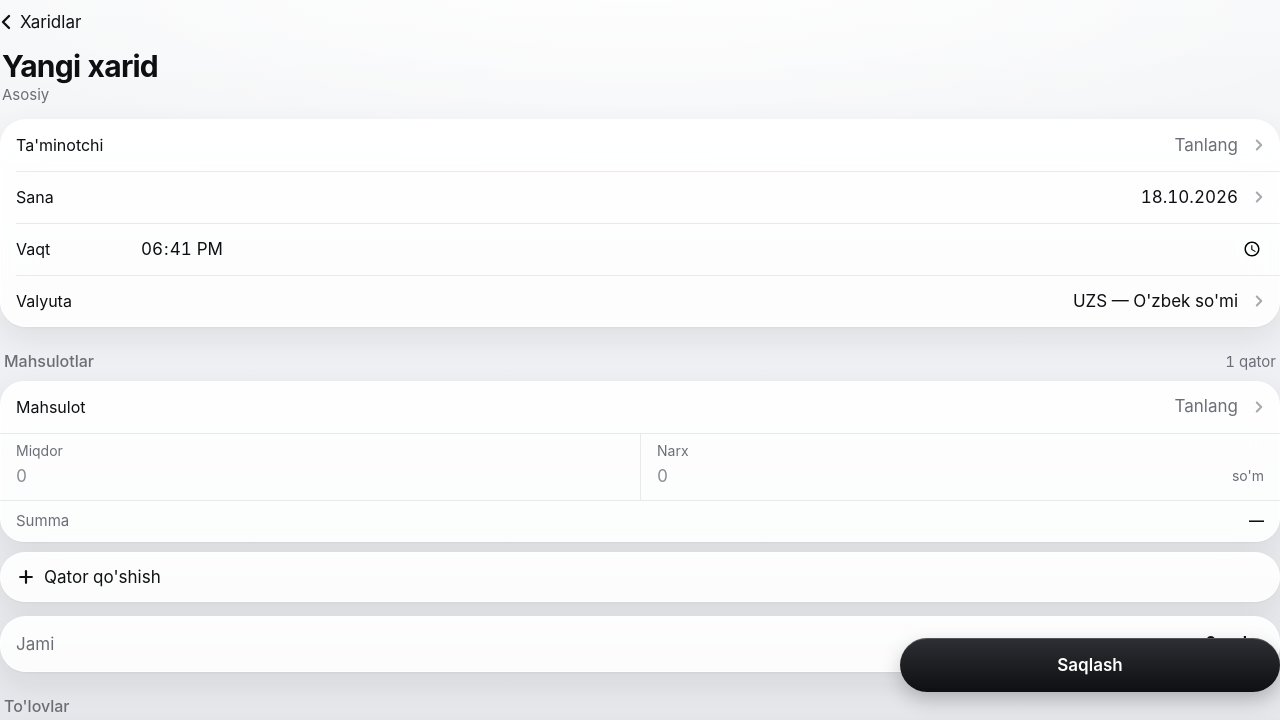
Test: with more than the so'm the currency and the rate are asked, and a last price in another currency is turned
This screenshot has width=1280, height=720.
Check: the heading "Yangi xarid" is shown, box x1=2 y1=50 x2=158 y2=83
Check: the button labelled "Valyuta UZS — O'zbek so'mi" is shown, box x1=0 y1=275 x2=1279 y2=327
Click the button "Mahsulot Tanlang" at (51, 406), box x1=0 y1=380 x2=1279 y2=432
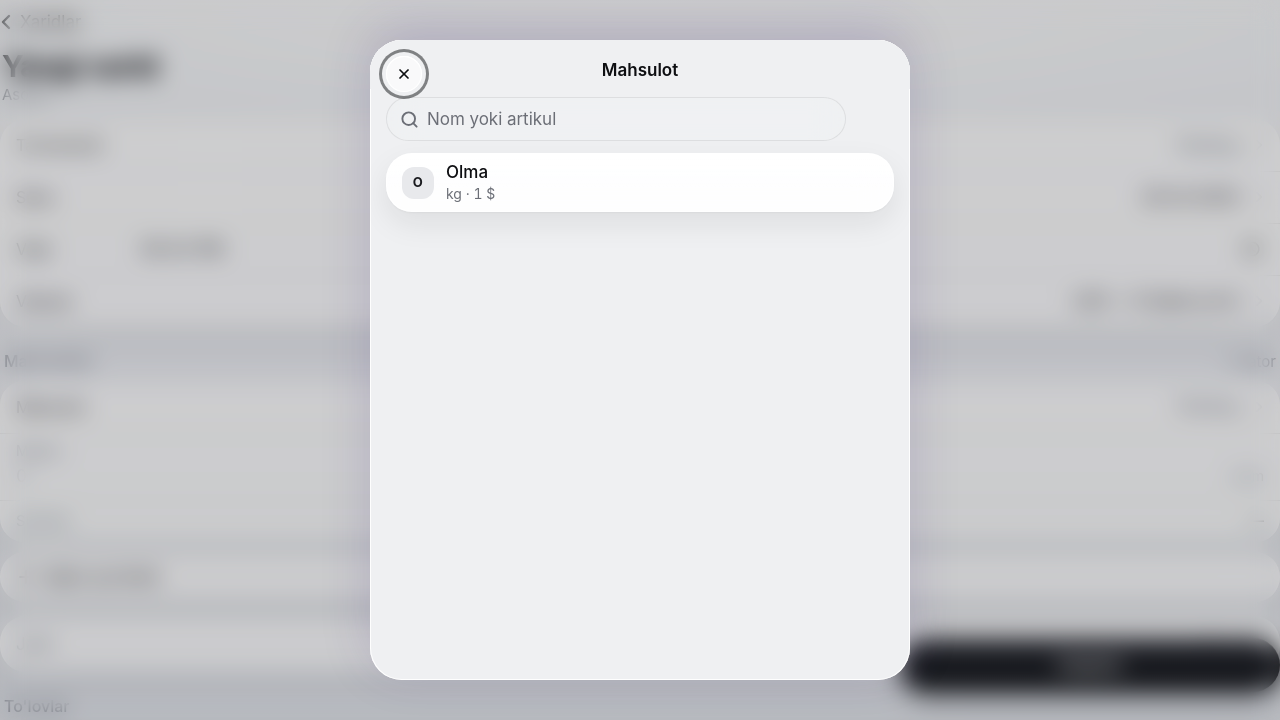
Type "ol" into the search field at (630, 119), box x1=427 y1=97 x2=832 y2=141
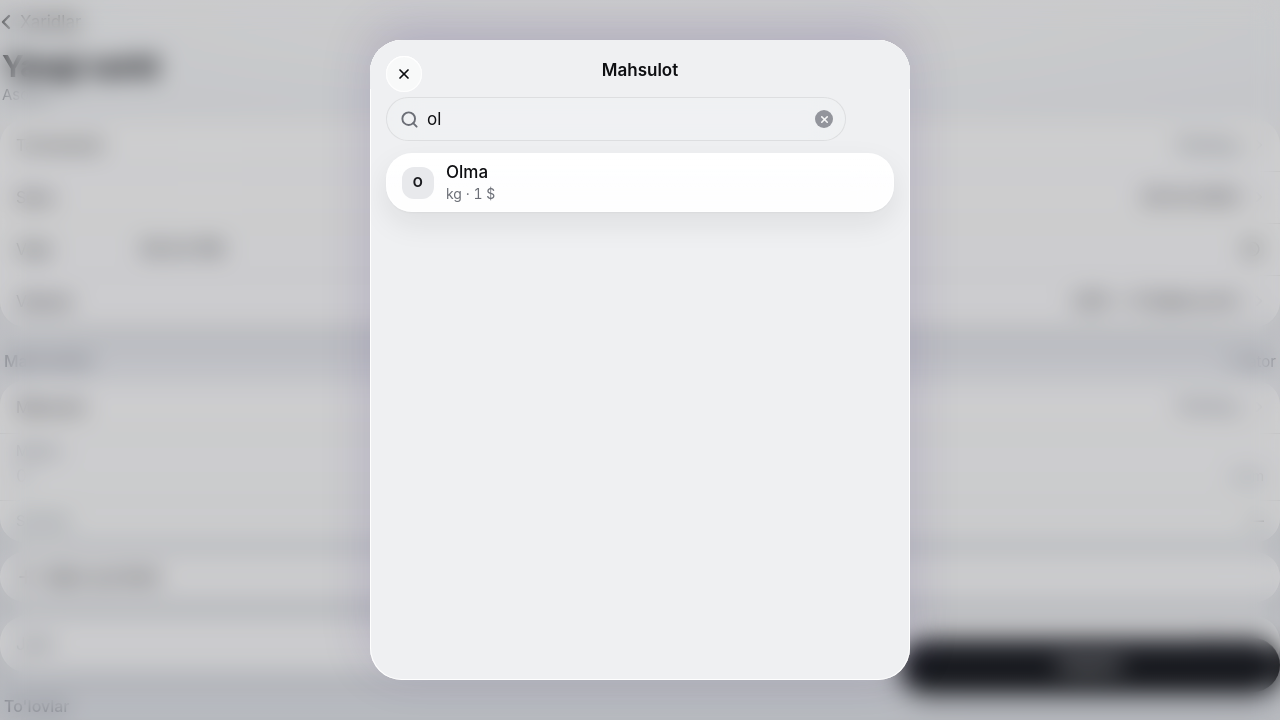
Click the option "O Olma kg · 1 $" at (449, 182), box x1=402 y1=162 x2=495 y2=202
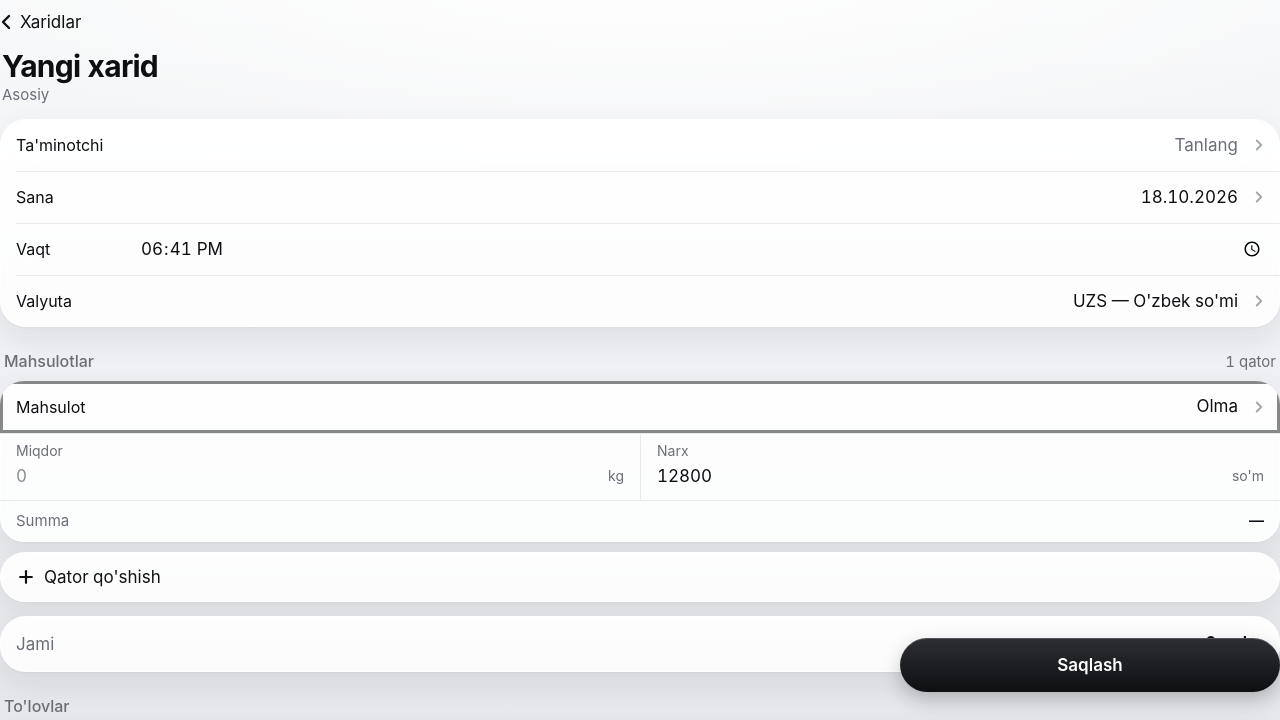
Check: the field labelled "Narx" holds "12800", box x1=657 y1=460 x2=1224 y2=492
Click the button labelled "Valyuta UZS — O'zbek so'mi" at (44, 301), box x1=0 y1=275 x2=1279 y2=327
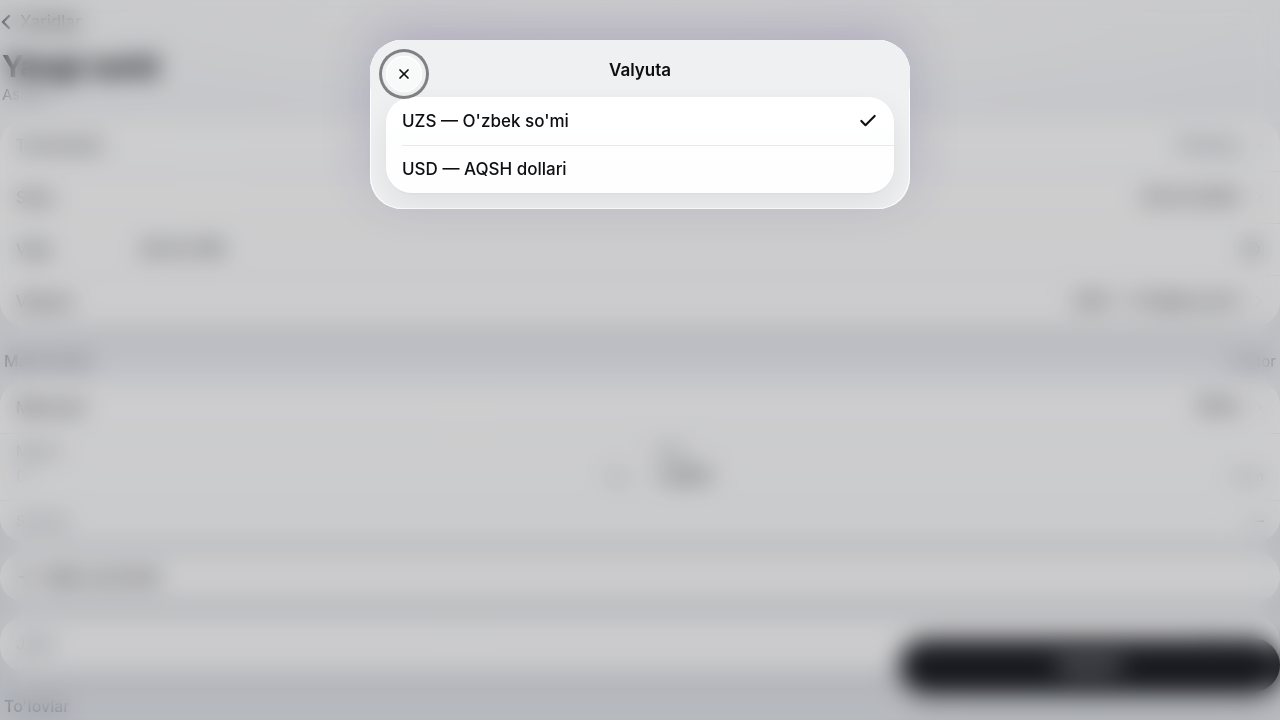
Click the option "USD — AQSH dollari" at (484, 169), box x1=402 y1=159 x2=567 y2=179
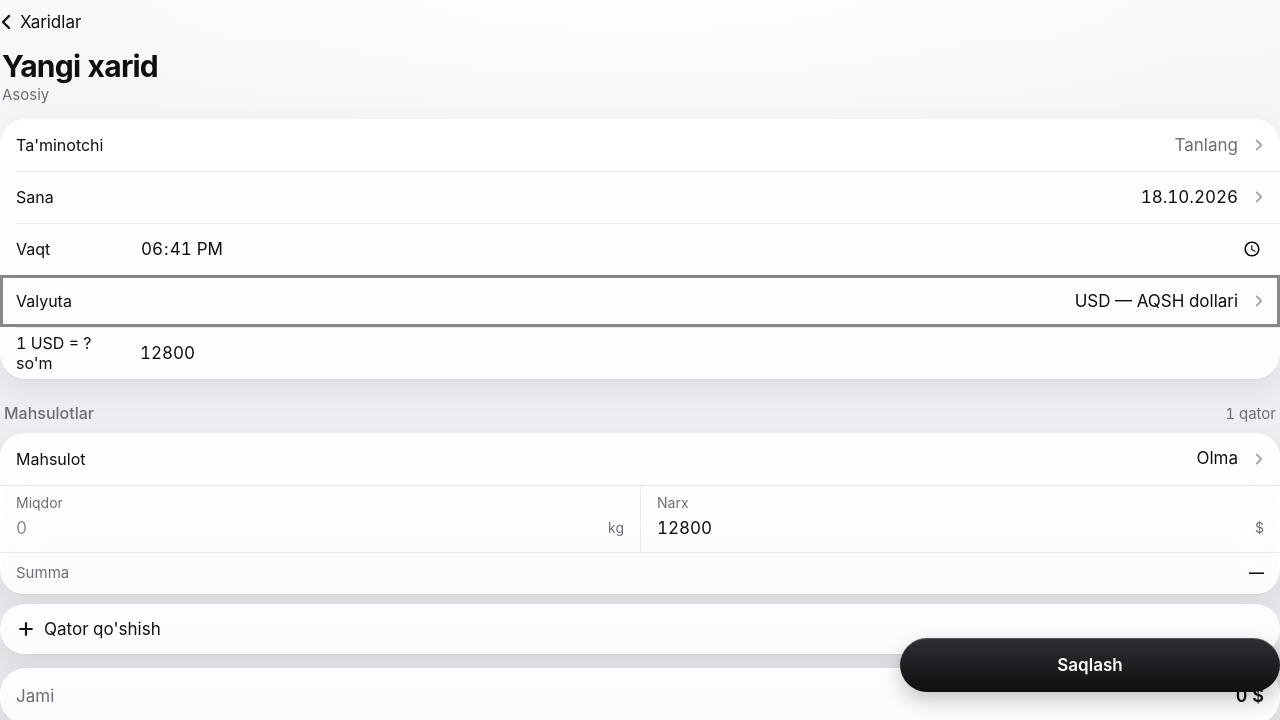
Check: the list is gone
Check: the field labelled "1 USD = ? so'm" holds "12800", box x1=140 y1=331 x2=1264 y2=375
Type "2" into the field labelled "Miqdor" at (308, 528), box x1=16 y1=512 x2=600 y2=544
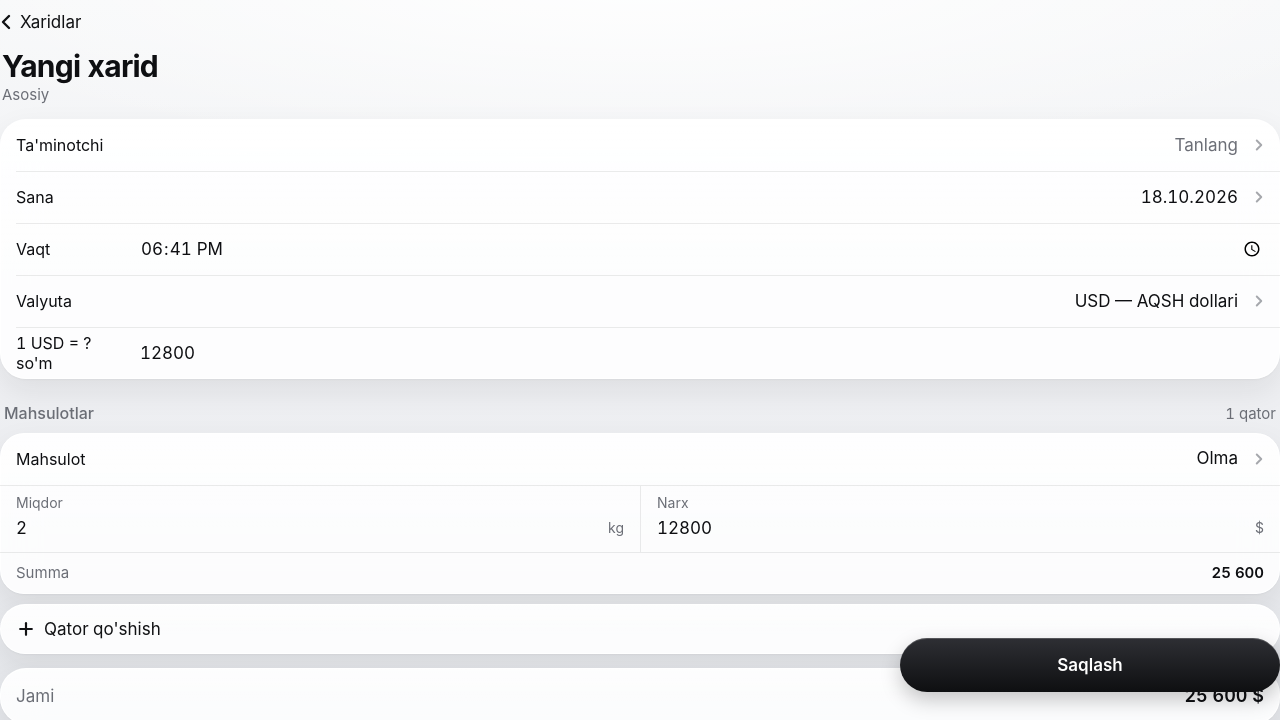
Check: the text "25 600 $" is shown, box x1=1184 y1=682 x2=1264 y2=710
